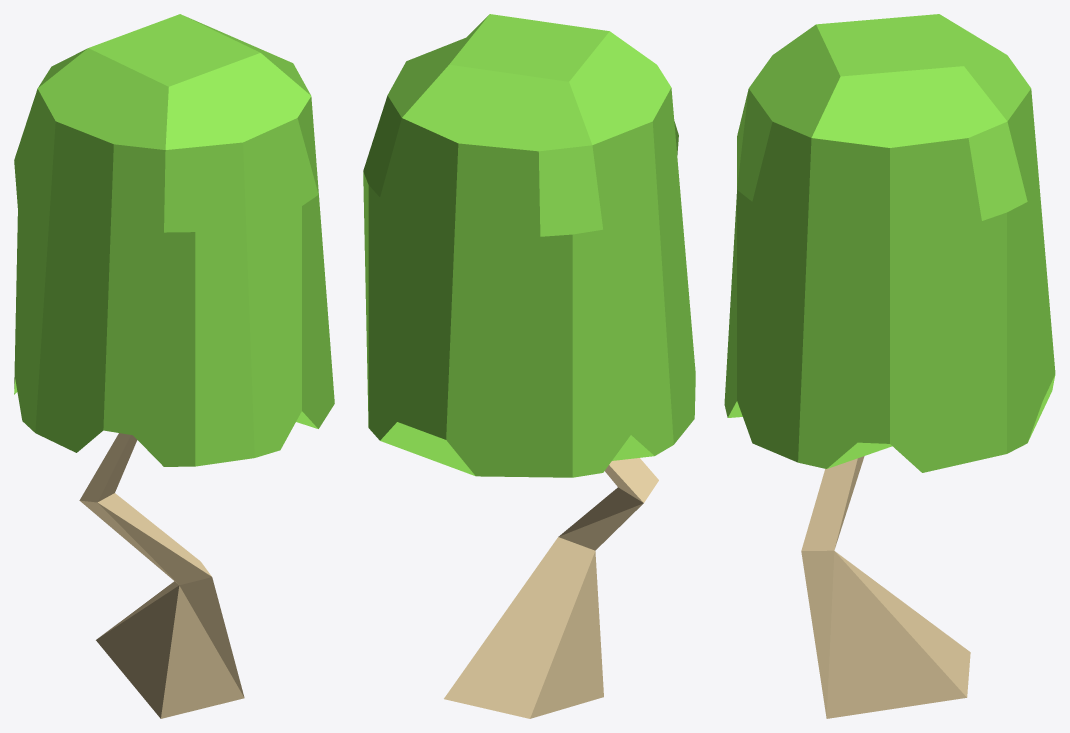
The model's file is WillowTree.fbx.
3 views of the same model, side by side, from view 1: azimuth 30°, elevation 25°; view 2: azimuth 150°, elevation 25°; view 3: azimuth 270°, elevation 25° (orthographic). The views are drawn at different scales.
Visible parts, largest first — view 1: Cylinder, Cube; view 2: Cylinder, Cube; view 3: Cylinder, Cube.
Part boxes in pixels (x1,y1,x2,y2): Cylinder: (14, 14, 334, 466); Cube: (79, 433, 244, 718); Cylinder: (363, 14, 695, 477); Cube: (444, 458, 658, 718); Cylinder: (724, 14, 1055, 472); Cube: (801, 456, 970, 718).
Bounding box in the file's own units: 555 × 1214 × 555.
